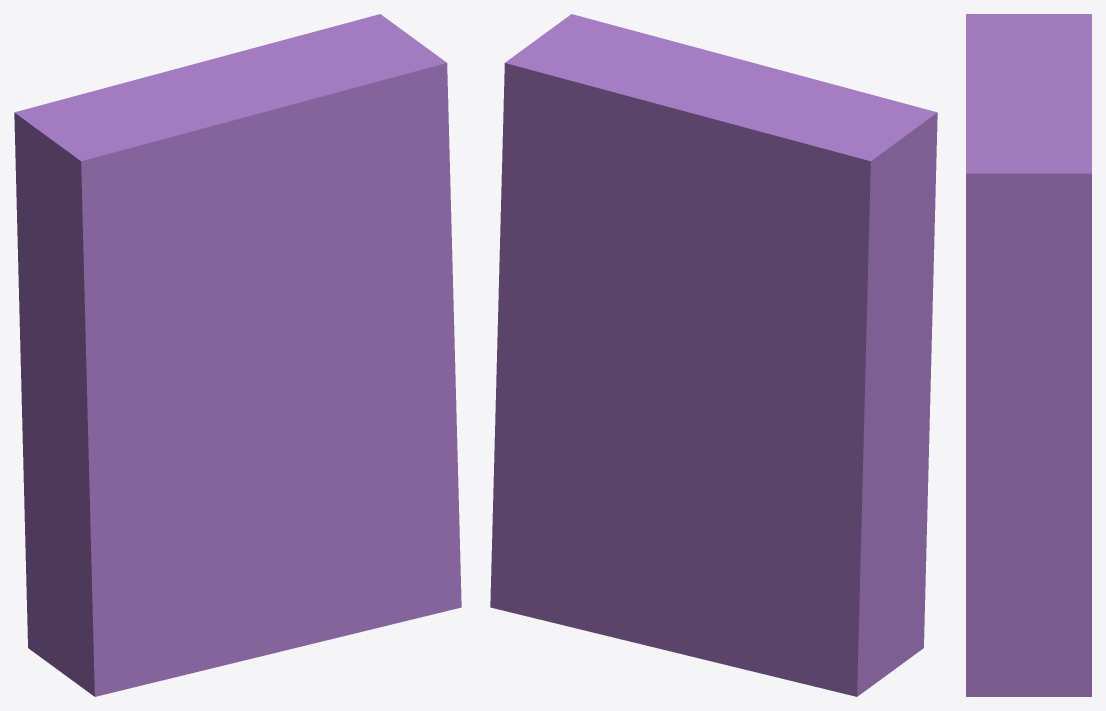
3 views of the same model, side by side, from view 1: azimuth 30°, elevation 25°; view 2: azimuth 150°, elevation 25°; view 3: azimuth 270°, elevation 25° (orthographic). The views are drawn at different scales.
Parts seen in each view (by area): view 1: geometry_0; view 2: geometry_0; view 3: geometry_0.
Part boxes in pixels (x1=…): geometry_0: x1=14, y1=14, x2=461, y2=696; geometry_0: x1=490, y1=14, x2=937, y2=696; geometry_0: x1=966, y1=14, x2=1091, y2=696.
Bounding box in the file's own units: 16.44 × 22.62 × 5.
